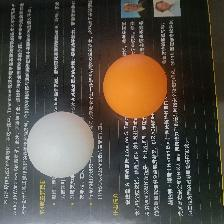WhiteBall: (27, 110, 94, 177)
YellowBall: (103, 54, 167, 118)
